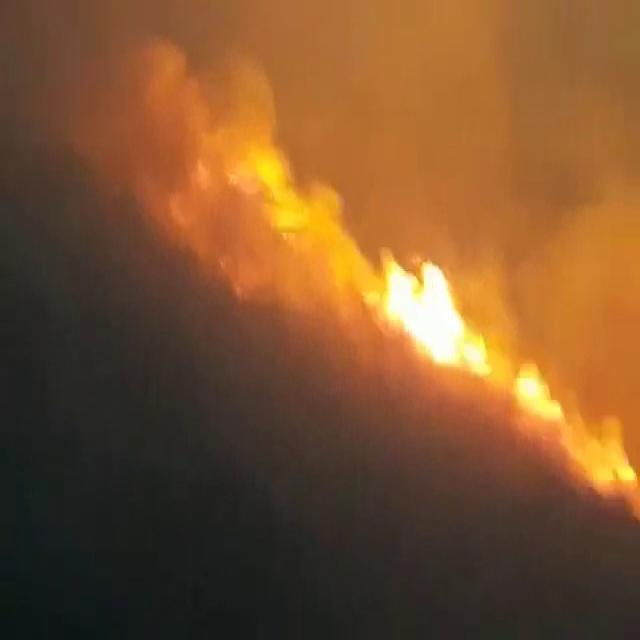Fire: (127, 49, 632, 484), (373, 232, 488, 384), (337, 225, 383, 328), (515, 340, 565, 429)
Smoke: (6, 14, 317, 350)
